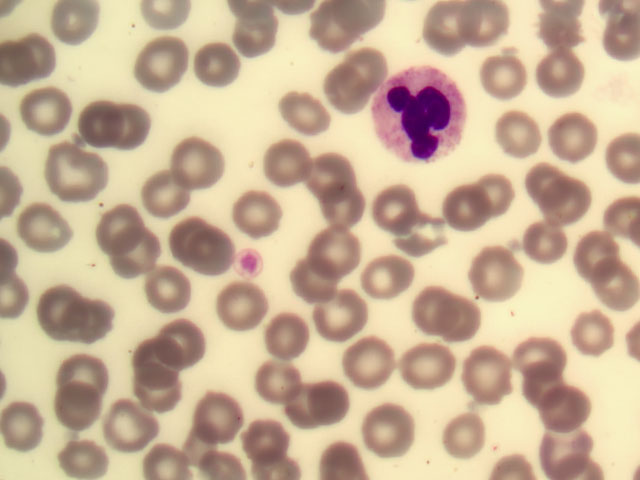Platelets: (231, 252, 259, 275)
RBC: (24, 30, 73, 80), (21, 88, 70, 138), (75, 96, 124, 146), (111, 100, 160, 150), (55, 148, 104, 198), (25, 197, 74, 247), (91, 196, 140, 246), (108, 224, 157, 274), (133, 178, 182, 228), (164, 138, 213, 188), (141, 41, 190, 91), (189, 39, 238, 89), (231, 12, 280, 62), (281, 78, 330, 128), (319, 64, 368, 114), (344, 45, 393, 95), (308, 148, 357, 198), (266, 137, 315, 187), (234, 189, 283, 239), (185, 231, 234, 281), (166, 215, 215, 265), (142, 270, 191, 320), (75, 296, 124, 346), (49, 291, 98, 341), (64, 346, 113, 396), (53, 386, 102, 436), (2, 400, 51, 450), (63, 430, 112, 480), (100, 405, 149, 455), (129, 369, 178, 419), (134, 336, 183, 386), (157, 316, 206, 366), (214, 286, 263, 336), (264, 307, 313, 357), (256, 350, 305, 400), (280, 383, 329, 433), (235, 413, 284, 463), (190, 388, 239, 438), (360, 400, 409, 450), (310, 378, 359, 428), (342, 335, 391, 385), (319, 296, 368, 346), (296, 256, 345, 306), (310, 225, 359, 275), (315, 187, 364, 237), (374, 183, 423, 233), (367, 258, 416, 308), (397, 210, 446, 260), (404, 284, 453, 334), (437, 295, 486, 345), (404, 346, 453, 396), (468, 345, 517, 395), (445, 414, 494, 464), (512, 329, 561, 379), (511, 363, 560, 413), (540, 389, 589, 439), (536, 427, 585, 477), (565, 307, 614, 357), (591, 258, 640, 308), (569, 225, 618, 275), (591, 200, 640, 250), (542, 177, 591, 227), (513, 159, 562, 209), (545, 110, 594, 160), (490, 102, 539, 152), (476, 166, 525, 216), (446, 189, 495, 239), (480, 53, 529, 103), (532, 51, 581, 101), (539, 8, 588, 58), (472, 1, 521, 51), (423, 3, 472, 53), (309, 1, 358, 51), (591, 8, 640, 58), (46, 1, 95, 50)
WBC: (376, 63, 473, 162)
